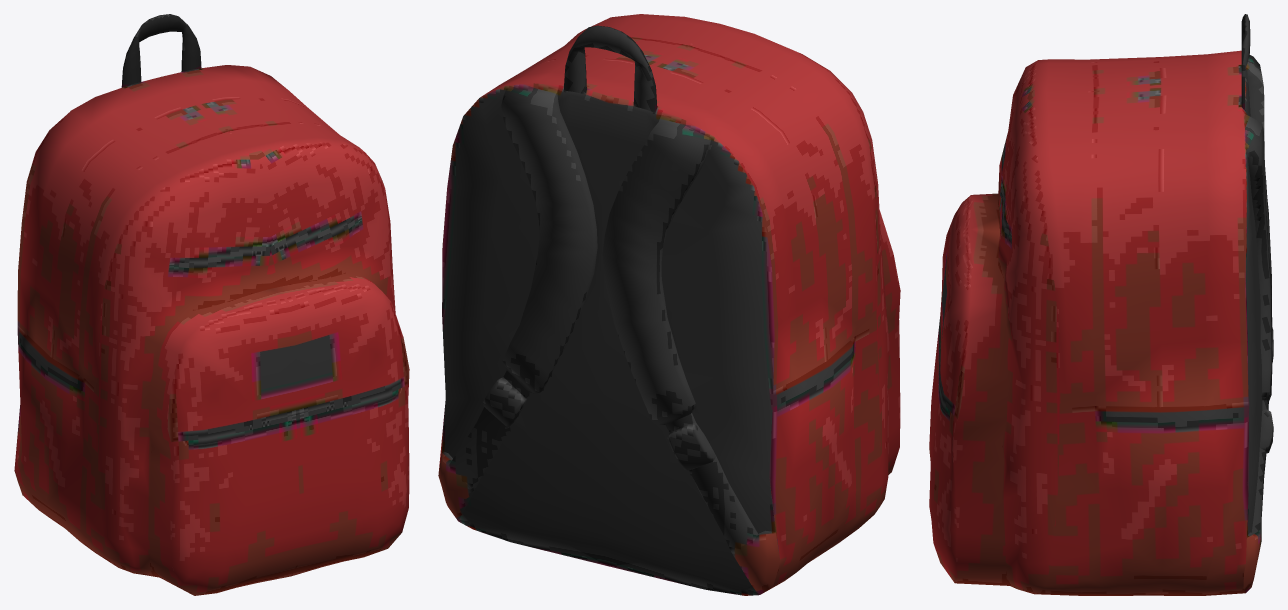
Rendered from backpack.dae.
3 renders of one model, left to right at view 1: azimuth 30°, elevation 25°; view 2: azimuth 150°, elevation 25°; view 3: azimuth 270°, elevation 25°, orthographic. The views are drawn at different scales.
Parts seen in each view (by area): view 1: Backpack; view 2: Backpack; view 3: Backpack.
Part boxes in pixels (left/top/right/bottom): Backpack: left=14, top=14, right=409, bottom=595; Backpack: left=438, top=14, right=900, bottom=595; Backpack: left=929, top=14, right=1273, bottom=595.
Bounding box in the file's own units: 32.84 × 28.65 × 47.43.
1 material, 1 textured.
